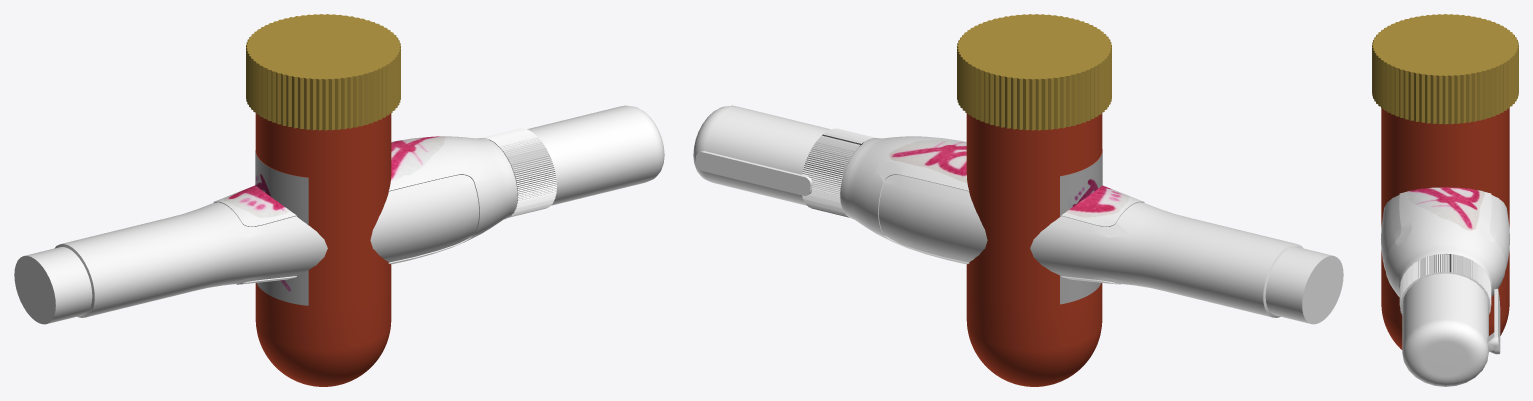
File: marker-vial-scene_gltf.gltf
3 views of the same model, side by side, from view 1: azimuth 30°, elevation 25°; view 2: azimuth 150°, elevation 25°; view 3: azimuth 270°, elevation 25° (orthographic). The views are drawn at different scales.
Parts seen in each view (by area): view 1: Sphere, Cylinder.003, Cylinder.002; view 2: Sphere, Cylinder.003, Cylinder.002; view 3: Sphere, Cylinder.003, Cylinder.002.
Boxes of the visible parts, x1,y1,x2,y2 form: Sphere: (246, 14, 400, 386); Cylinder.003: (14, 128, 556, 324); Cylinder.002: (527, 105, 664, 205); Sphere: (957, 14, 1111, 386); Cylinder.003: (802, 128, 1343, 324); Cylinder.002: (693, 105, 830, 205); Sphere: (1372, 14, 1518, 349); Cylinder.003: (1381, 187, 1509, 315); Cylinder.002: (1402, 273, 1500, 386).
Size of the model in its own units: 23.72 by 12.34 by 5.2.
Materials: 7 (2 with a texture image).
